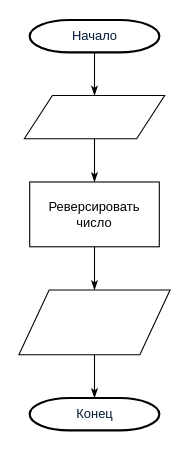
Some shapes in this 189 by 449 pixel diagram are drawn without their labels. Here are the shapes that lost their labels. From the top down, the centre of each, then its label:
the point at 94,116: Считать семизначное число N
the point at 94,322: Вывести результат
